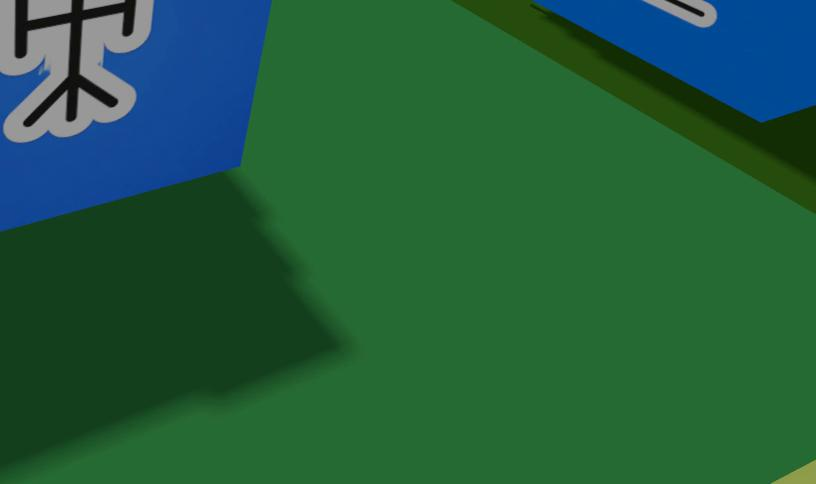KFS_REAL: (0, 0, 271, 230), (534, 0, 815, 121), (0, 0, 154, 142), (642, 0, 716, 26)
